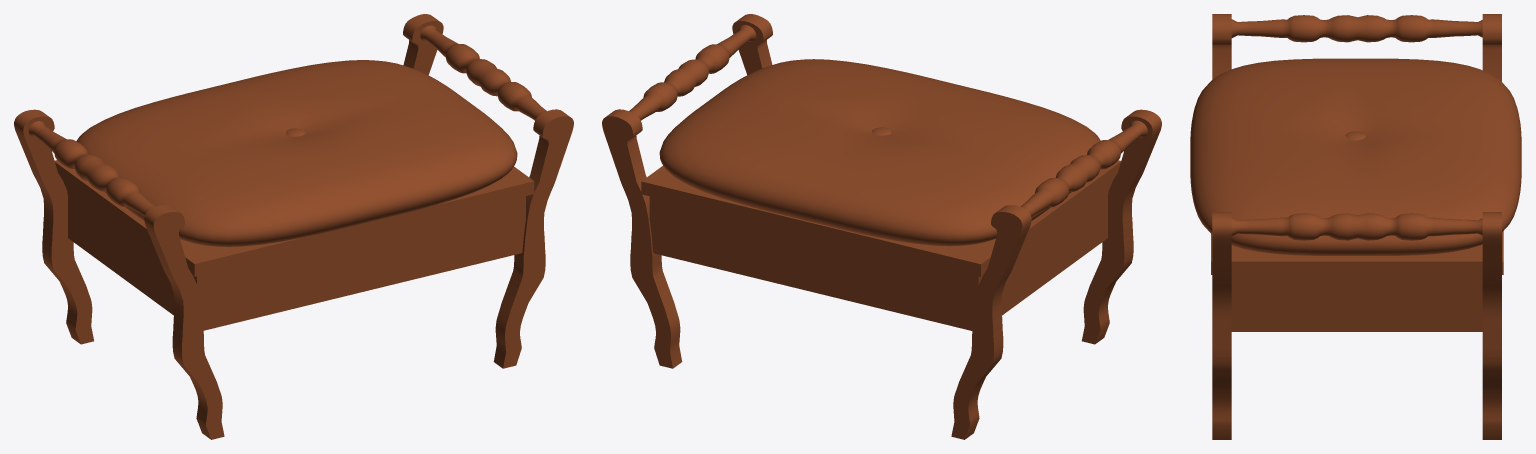
Rendered from M_PianoChair.fbx.
The picture shows the model from 3 angles, left to right: view 1: azimuth 30°, elevation 25°; view 2: azimuth 150°, elevation 25°; view 3: azimuth 270°, elevation 25°; orthographic projection. The views are drawn at different scales.
Visible parts, largest first — view 1: PianoChair; view 2: PianoChair; view 3: PianoChair.
Boxes of the visible parts, x1,y1,x2,y2 form: PianoChair: (14,14,573,439); PianoChair: (602,14,1161,439); PianoChair: (1190,14,1521,439).
Size of the model in its own units: 79.3 by 42.93 by 52.19.
